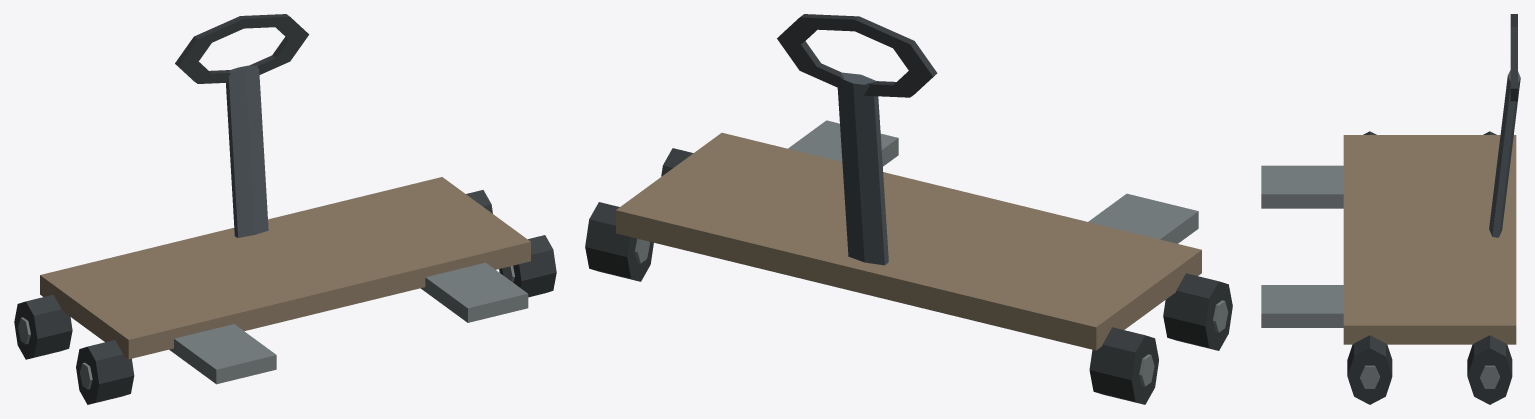
Rendered from pallet_truck.glb.
3 renders of one model, left to right at view 1: azimuth 30°, elevation 25°; view 2: azimuth 150°, elevation 25°; view 3: azimuth 270°, elevation 25°, orthographic. The views are drawn at different scales.
Visible parts, largest first — view 1: pallet_truck; view 2: pallet_truck; view 3: pallet_truck.
Part boxes in pixels (bbox=[...]): pallet_truck: bbox=[14, 14, 556, 404]; pallet_truck: bbox=[585, 14, 1232, 404]; pallet_truck: bbox=[1261, 14, 1520, 404].
Size of the model in its own units: 1.92 by 1.1 by 0.96.
